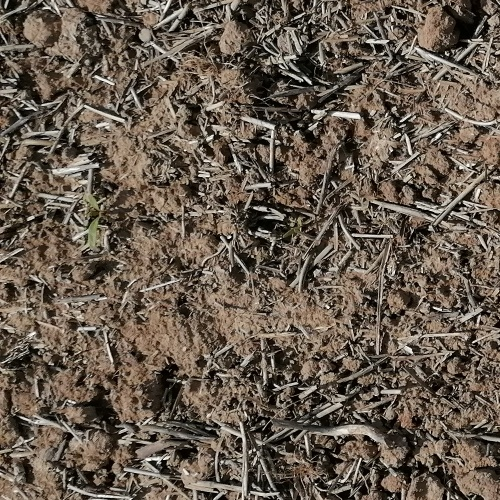beet: (83, 191, 108, 250)
